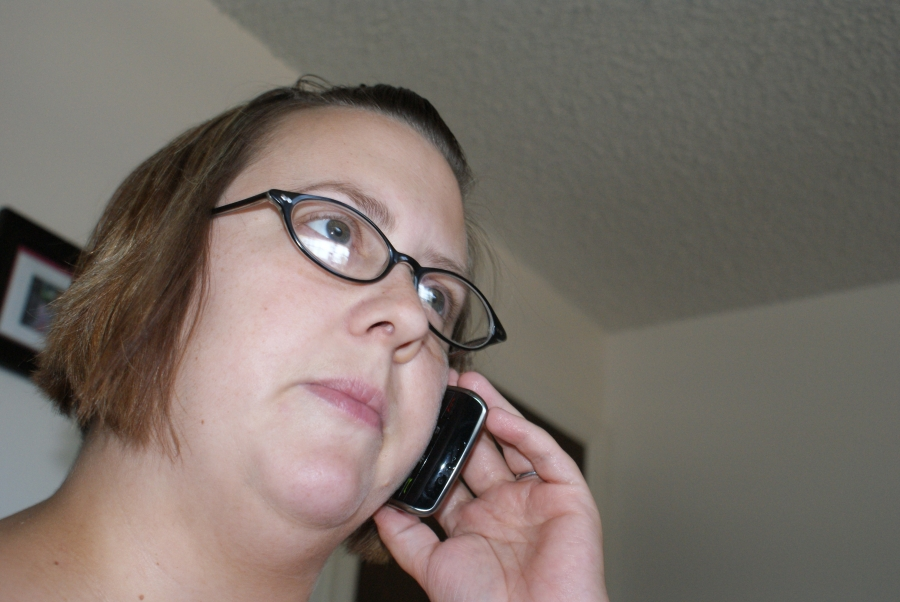phone: (386, 381, 511, 513)
